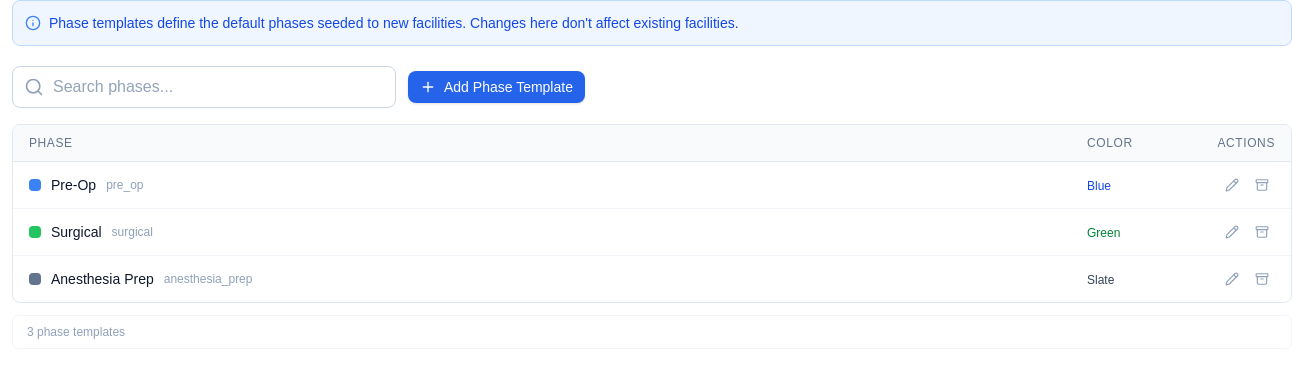
Test: AdminPhaseLibrary › search › filters phases by internal name
The image size is (1292, 366).
Type "anesthesia" into the field with placeholder "Search phases...".
click(204, 87); type("anesthesia")  # box [12,66,396,108]
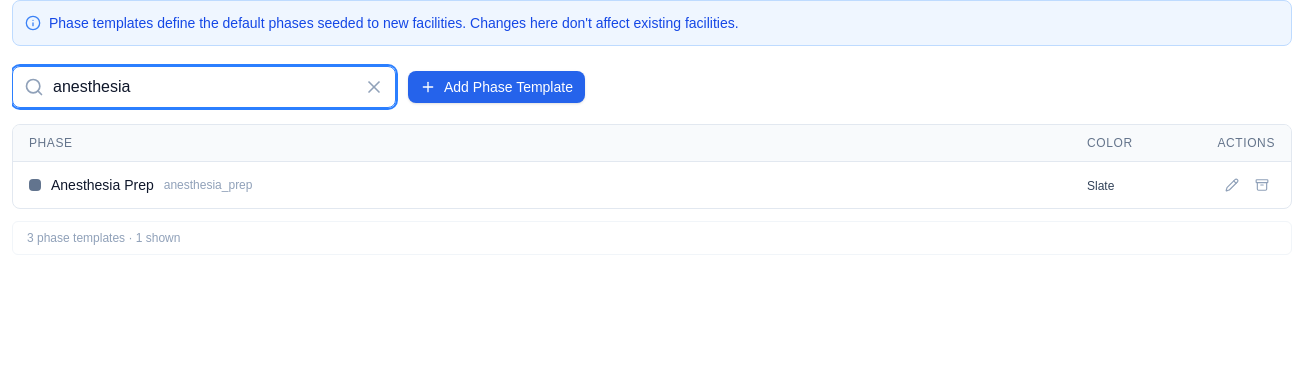
expect the text "Anesthesia Prep" is shown: met, box [51,175,154,195]
expect the text "Surgical" is gone: met
